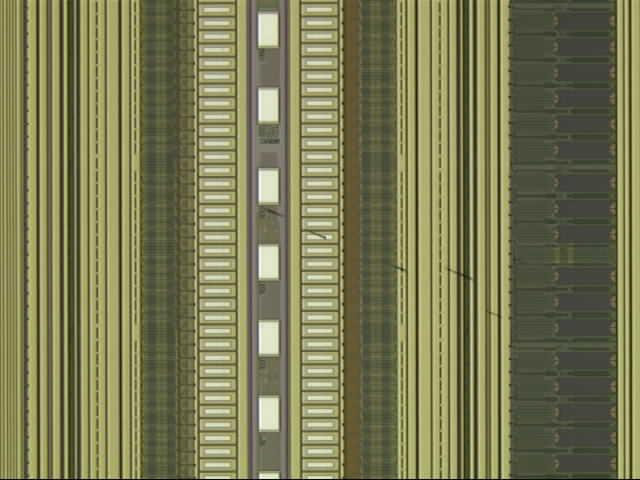SCRATCH: (235, 191, 525, 330)
